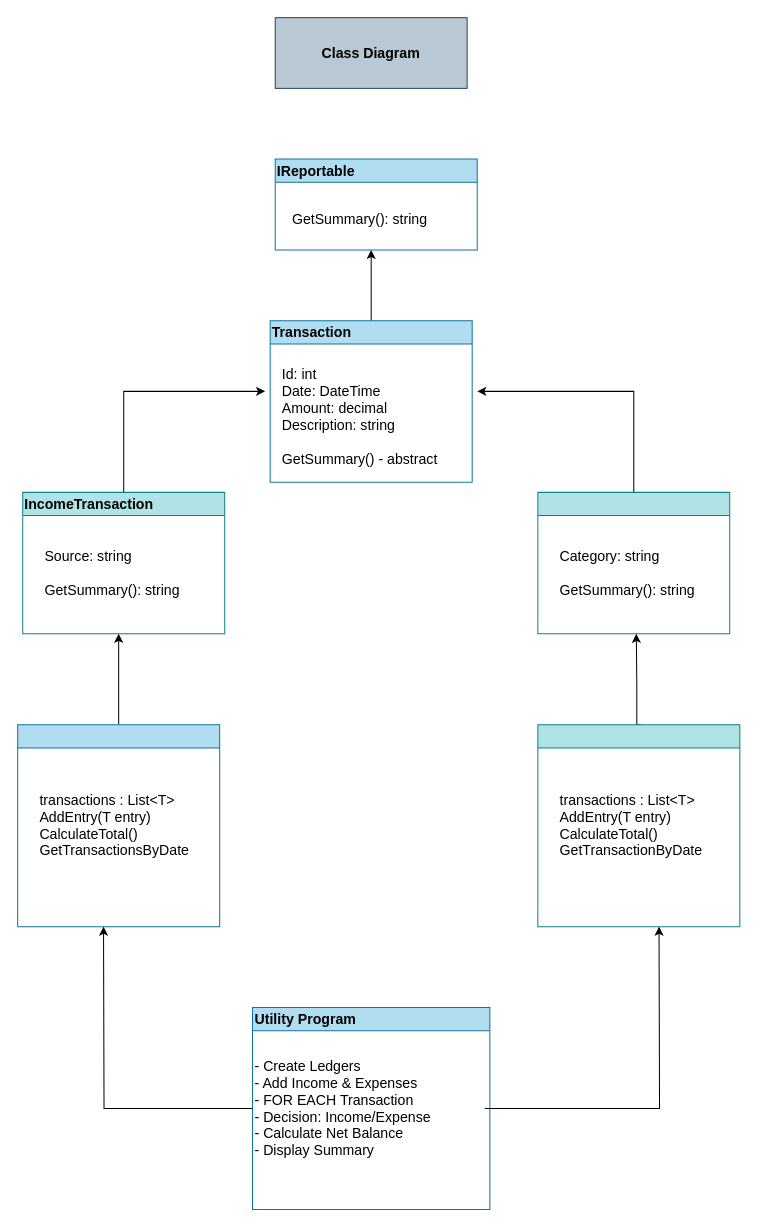
Image size: 763x1227. Some labels were removed from this diagram. Here are the shapes that lost their labels. From the top down, the box of each, then its label:
(537, 491, 730, 634): Expense Transaction
(17, 724, 220, 927): Ledger<IncomeTransaction>
(537, 724, 740, 927): Ledger<ExpenseTransaction>
